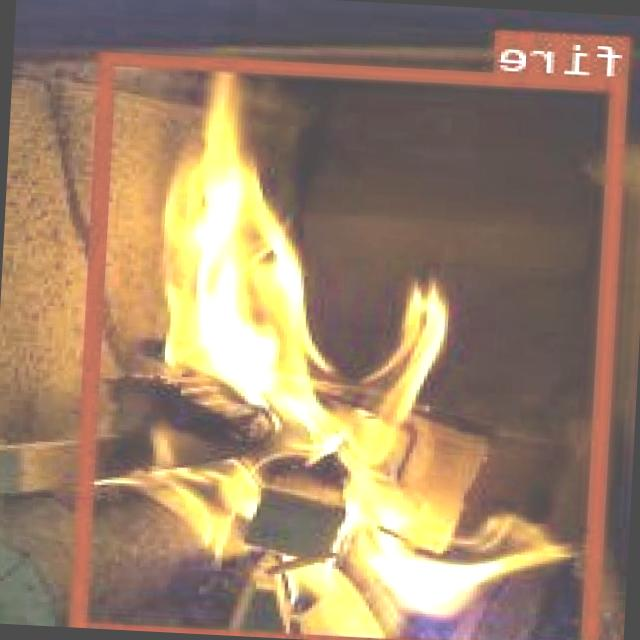fire: (76, 49, 632, 640)
